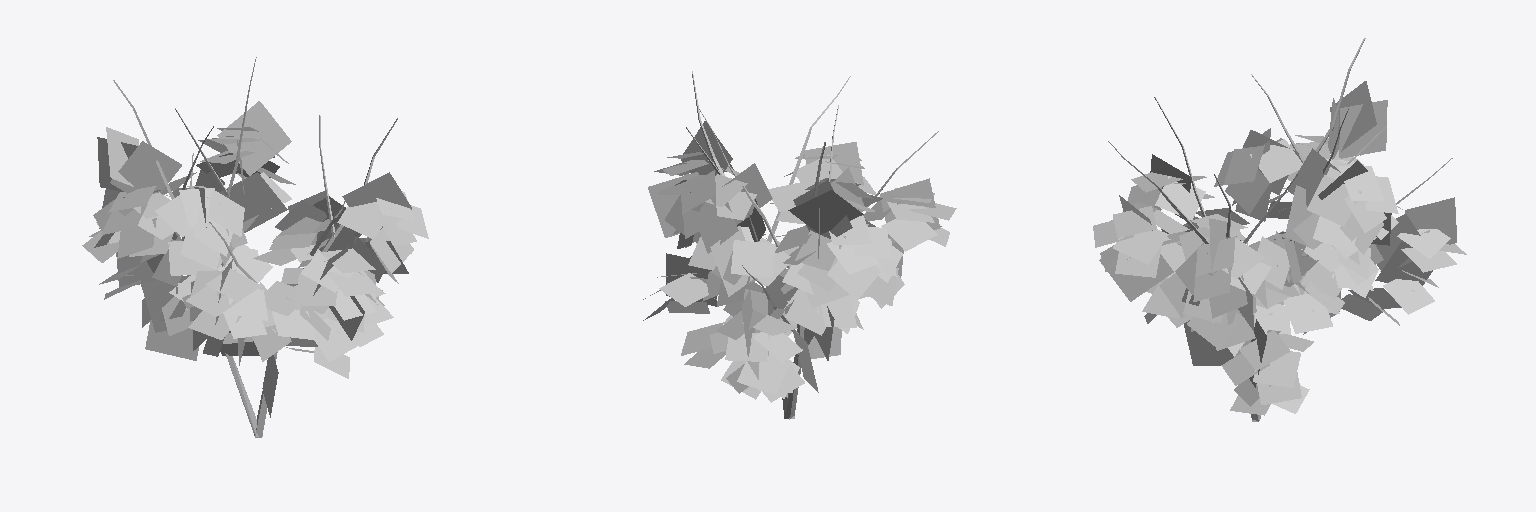
Rendered from tree3b_lod2.obj.
3 renders of one model, left to right at view 1: azimuth 30°, elevation 25°; view 2: azimuth 150°, elevation 25°; view 3: azimuth 270°, elevation 25°, orthographic.
Visible parts, largest first — view 1: leaves 0.0 0.[number redacted] 0.0 0 0 0 0.[number redacted] 0.[number redacted], bark -0.[number redacted] -0.[number redacted] 0.[number redacted]; view 2: leaves 0.0 0.[number redacted] 0.0 0 0 0 0.[number redacted] 0.[number redacted], bark -0.[number redacted] -0.[number redacted] 0.[number redacted]; view 3: leaves 0.0 0.[number redacted] 0.0 0 0 0 0.[number redacted] 0.[number redacted], bark -0.[number redacted] -0.[number redacted] 0.[number redacted].
Boxes of the visible parts, <box> form: leaves 0.0 0.[number redacted] 0.0 0 0 0 0.[number redacted] 0.[number redacted]: <box>82,101,428,417</box>; bark -0.[number redacted] -0.[number redacted] 0.[number redacted]: <box>113,57,397,437</box>; leaves 0.0 0.[number redacted] 0.0 0 0 0 0.[number redacted] 0.[number redacted]: <box>643,121,956,402</box>; bark -0.[number redacted] -0.[number redacted] 0.[number redacted]: <box>686,71,938,419</box>; leaves 0.0 0.[number redacted] 0.0 0 0 0 0.[number redacted] 0.[number redacted]: <box>1093,81,1466,415</box>; bark -0.[number redacted] -0.[number redacted] 0.[number redacted]: <box>1108,38,1452,421</box>.
Bounding box in the file's own units: 0.8636 × 1 × 1.